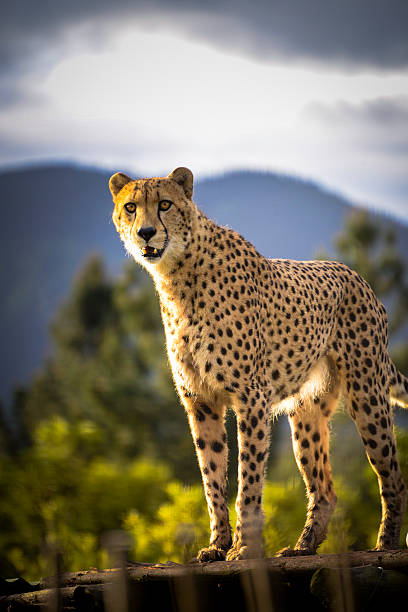cheetah: (68, 151, 206, 286)
